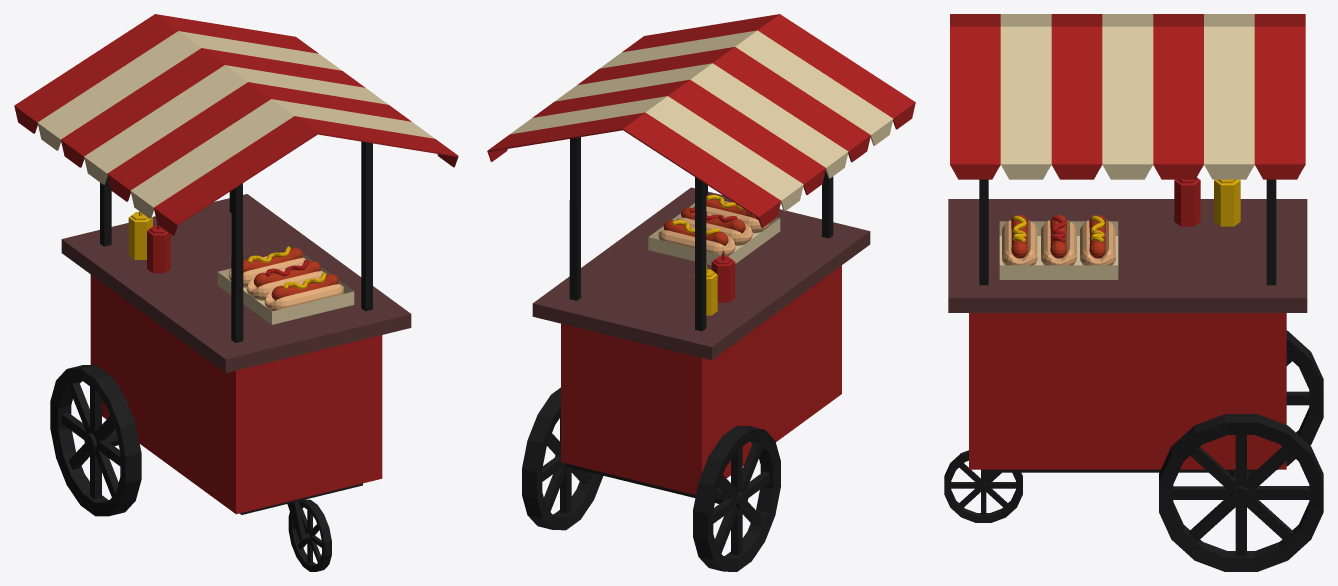
File: Hotdog_Cart.fbx
3 views of the same model, side by side, from view 1: azimuth 30°, elevation 25°; view 2: azimuth 150°, elevation 25°; view 3: azimuth 270°, elevation 25° (orthographic). The views are drawn at different scales.
Parts seen in each view (by area): view 1: Box, Roof, Wheels, Poles.001, HotDog, Container, Condiments; view 2: Box, Roof, Wheels, Poles.001, HotDog, Container, Condiments; view 3: Box, Roof, Wheels, HotDog, Container, Condiments, Poles.001.
Part boxes in pixels (x1,y1,x2,y2): Box: (61, 194, 411, 514); Roof: (14, 14, 458, 235); Wheels: (50, 365, 331, 571); Poles.001: (100, 141, 372, 342); HotDog: (228, 246, 343, 311); Container: (217, 254, 354, 324); Condiments: (128, 211, 170, 273); Box: (532, 187, 870, 496); Roof: (487, 14, 915, 227); Wheels: (522, 387, 780, 571); Poles.001: (569, 137, 833, 331); HotDog: (658, 194, 769, 256); Container: (648, 203, 780, 265); Condiments: (694, 251, 735, 315); Box: (948, 199, 1307, 472); Roof: (950, 14, 1305, 179); Wheels: (944, 330, 1323, 571); HotDog: (1002, 215, 1115, 265); Container: (999, 221, 1118, 279); Condiments: (1174, 177, 1240, 226); Poles.001: (979, 179, 1276, 285).
Size of the model in its own units: 213 by 200 by 306.
